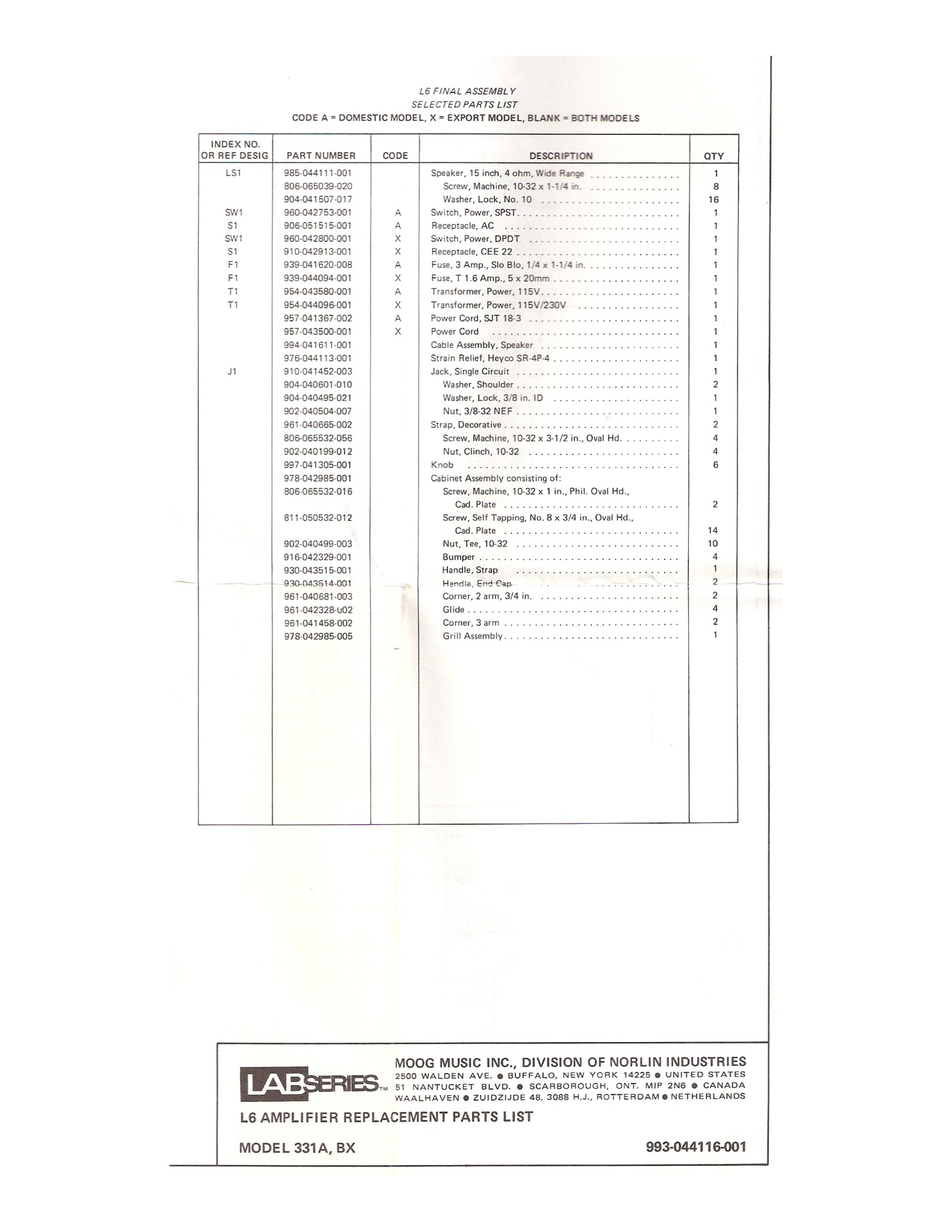F1: (227, 260, 240, 269), (228, 273, 239, 283)
J1: (227, 365, 238, 378)
LS1: (223, 166, 243, 178)
S1: (226, 221, 240, 231), (226, 247, 238, 256)
SW1: (224, 207, 244, 218), (223, 233, 243, 244)
T1_: (226, 287, 239, 297), (227, 300, 240, 310)
